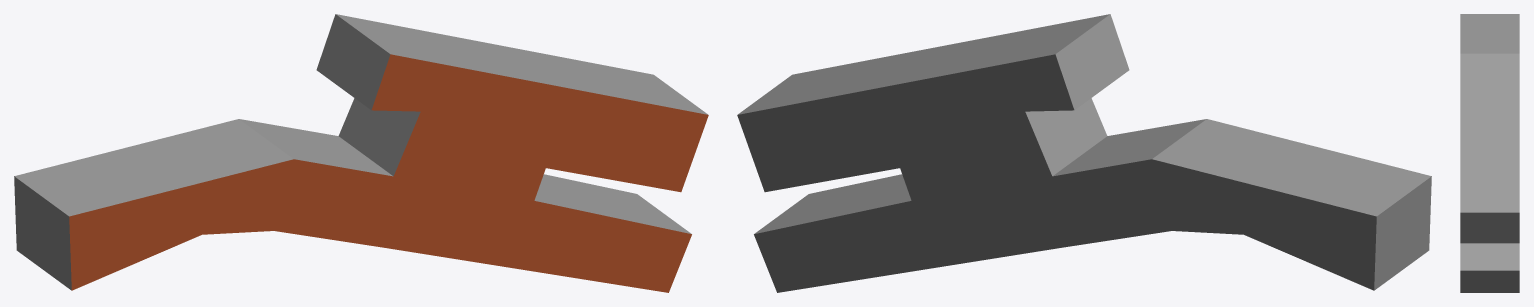
File: construction_1505_assumed_A_Casa_h6m.obj
3 views of the same model, side by side, from view 1: azimuth 30°, elevation 25°; view 2: azimuth 150°, elevation 25°; view 3: azimuth 270°, elevation 25° (orthographic). The views are drawn at different scales.
Visible parts, largest first — view 1: construction_1505_assumed_A_Casa; view 2: construction_1505_assumed_A_Casa; view 3: construction_1505_assumed_A_Casa.
Boxes of the visible parts, box(x1,y1,x2,y2) form: construction_1505_assumed_A_Casa: box(14, 14, 708, 292); construction_1505_assumed_A_Casa: box(737, 14, 1431, 292); construction_1505_assumed_A_Casa: box(1460, 14, 1519, 292).
Bounding box in the file's own units: 40.23 × 18.43 × 6.
